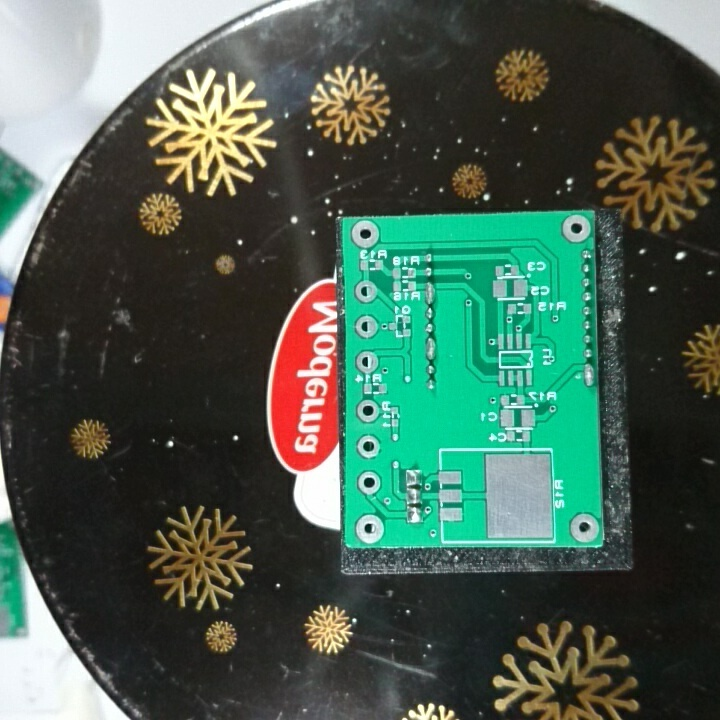F: (353, 512, 385, 545), (568, 510, 599, 544), (560, 215, 593, 246), (349, 219, 382, 249), (356, 432, 383, 461), (356, 468, 382, 497), (353, 312, 379, 340), (354, 397, 380, 425), (351, 278, 379, 303), (354, 349, 378, 374)
P: (580, 361, 597, 388), (422, 335, 439, 361), (422, 278, 438, 305)
